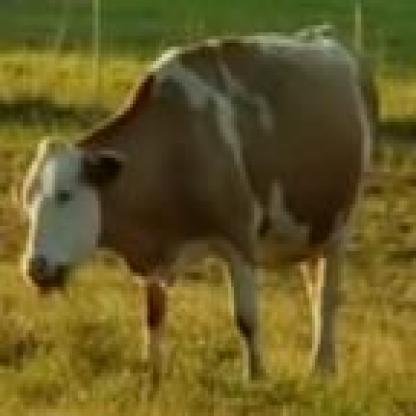cow: (23, 36, 379, 380)
